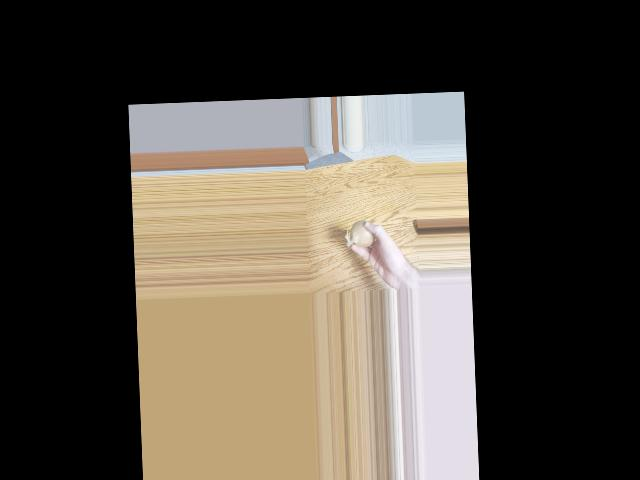onion: (349, 219, 376, 246)
